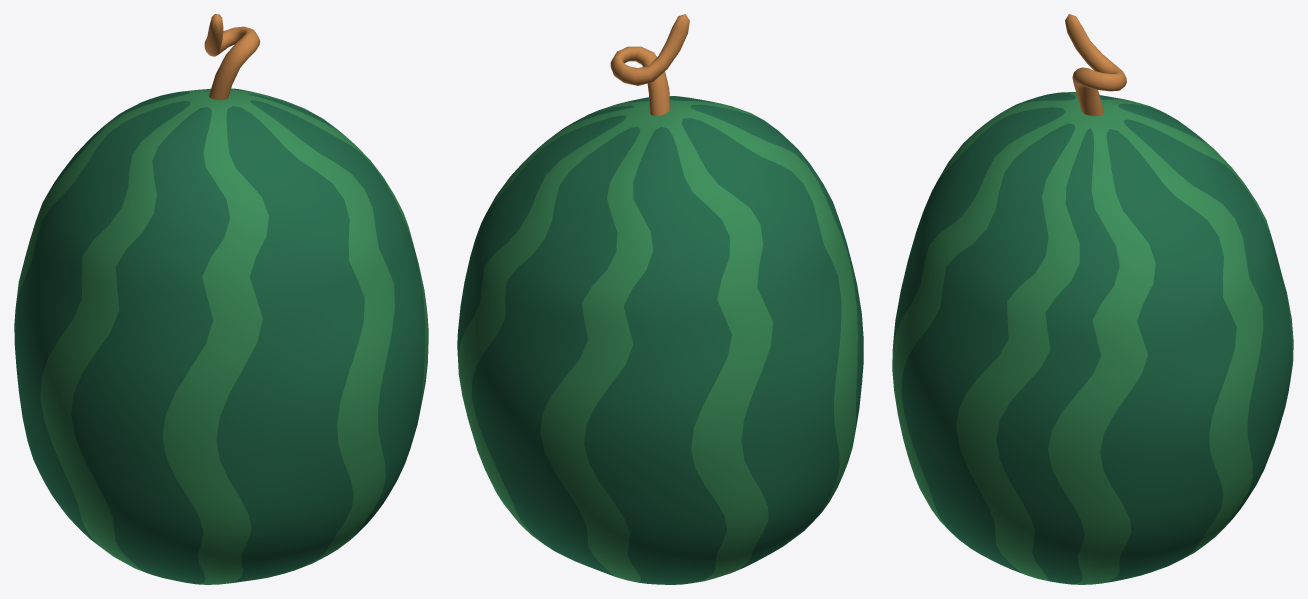
File: Watermelon_03.dae
3 renders of one model, left to right at view 1: azimuth 30°, elevation 25°; view 2: azimuth 150°, elevation 25°; view 3: azimuth 270°, elevation 25°, orthographic. The views are drawn at different scales.
Visible parts, largest first — view 1: Watermelon_03_LOD0; view 2: Watermelon_03_LOD0; view 3: Watermelon_03_LOD0.
Part boxes in pixels (bbox=[...]): Watermelon_03_LOD0: bbox=[14, 14, 428, 584]; Watermelon_03_LOD0: bbox=[457, 14, 863, 584]; Watermelon_03_LOD0: bbox=[892, 14, 1293, 584].
Size of what is drawn, in the model's own units: 5.03 by 4.98 by 7.49.
